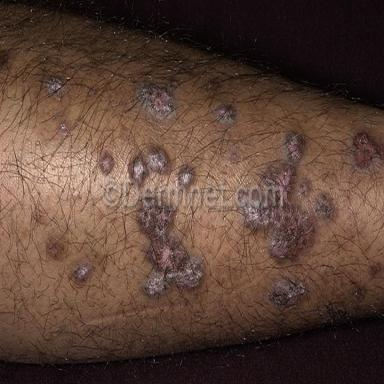lichen: (137, 201, 204, 297), (241, 206, 315, 260), (265, 130, 305, 186), (137, 78, 180, 119), (129, 146, 169, 185), (268, 277, 307, 309), (353, 133, 384, 168), (69, 261, 95, 288), (319, 302, 349, 324), (313, 192, 334, 219), (44, 74, 65, 100), (212, 104, 237, 125), (99, 151, 114, 175), (179, 165, 194, 186), (300, 177, 310, 194)
